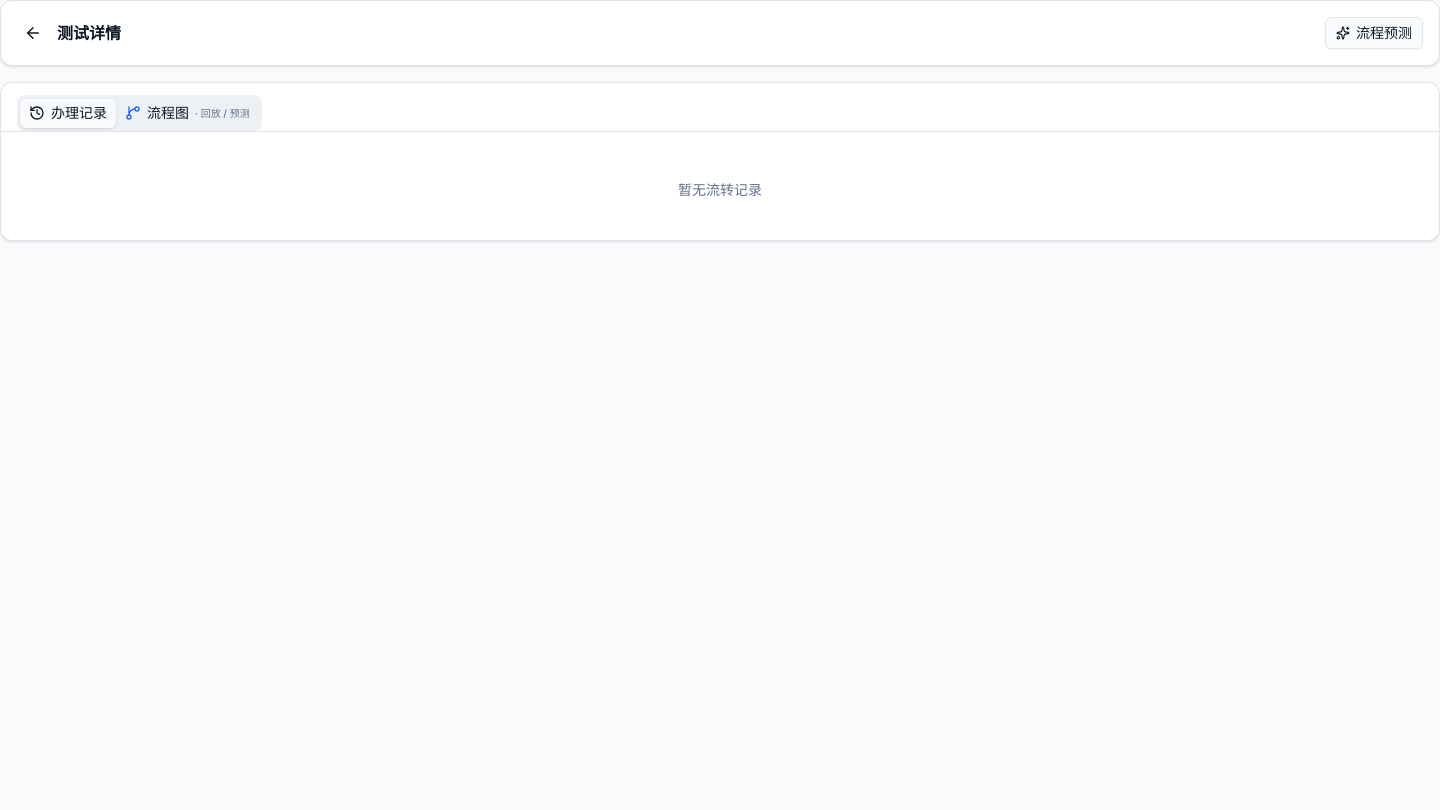
Test: WorkflowDetailShell 骨架 › 流程预测键（flow.predict.enabled）→ 头卡出现，点击切到流程图 Tab
Click the button "流程预测" at (1374, 33), box left=1325, top=17, right=1423, bottom=49
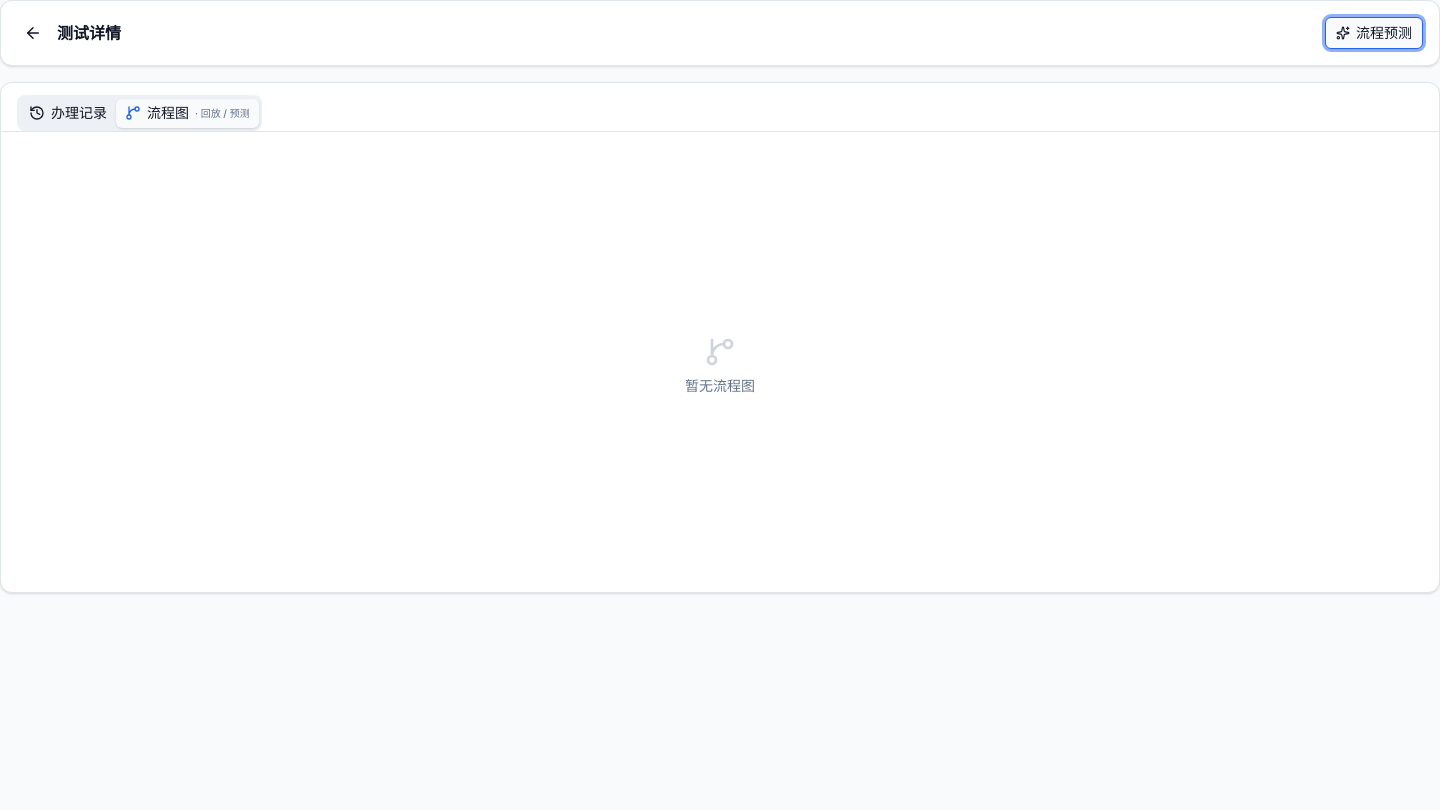
Check: the text "暂无流程图" is shown, box left=685, top=376, right=755, bottom=396
